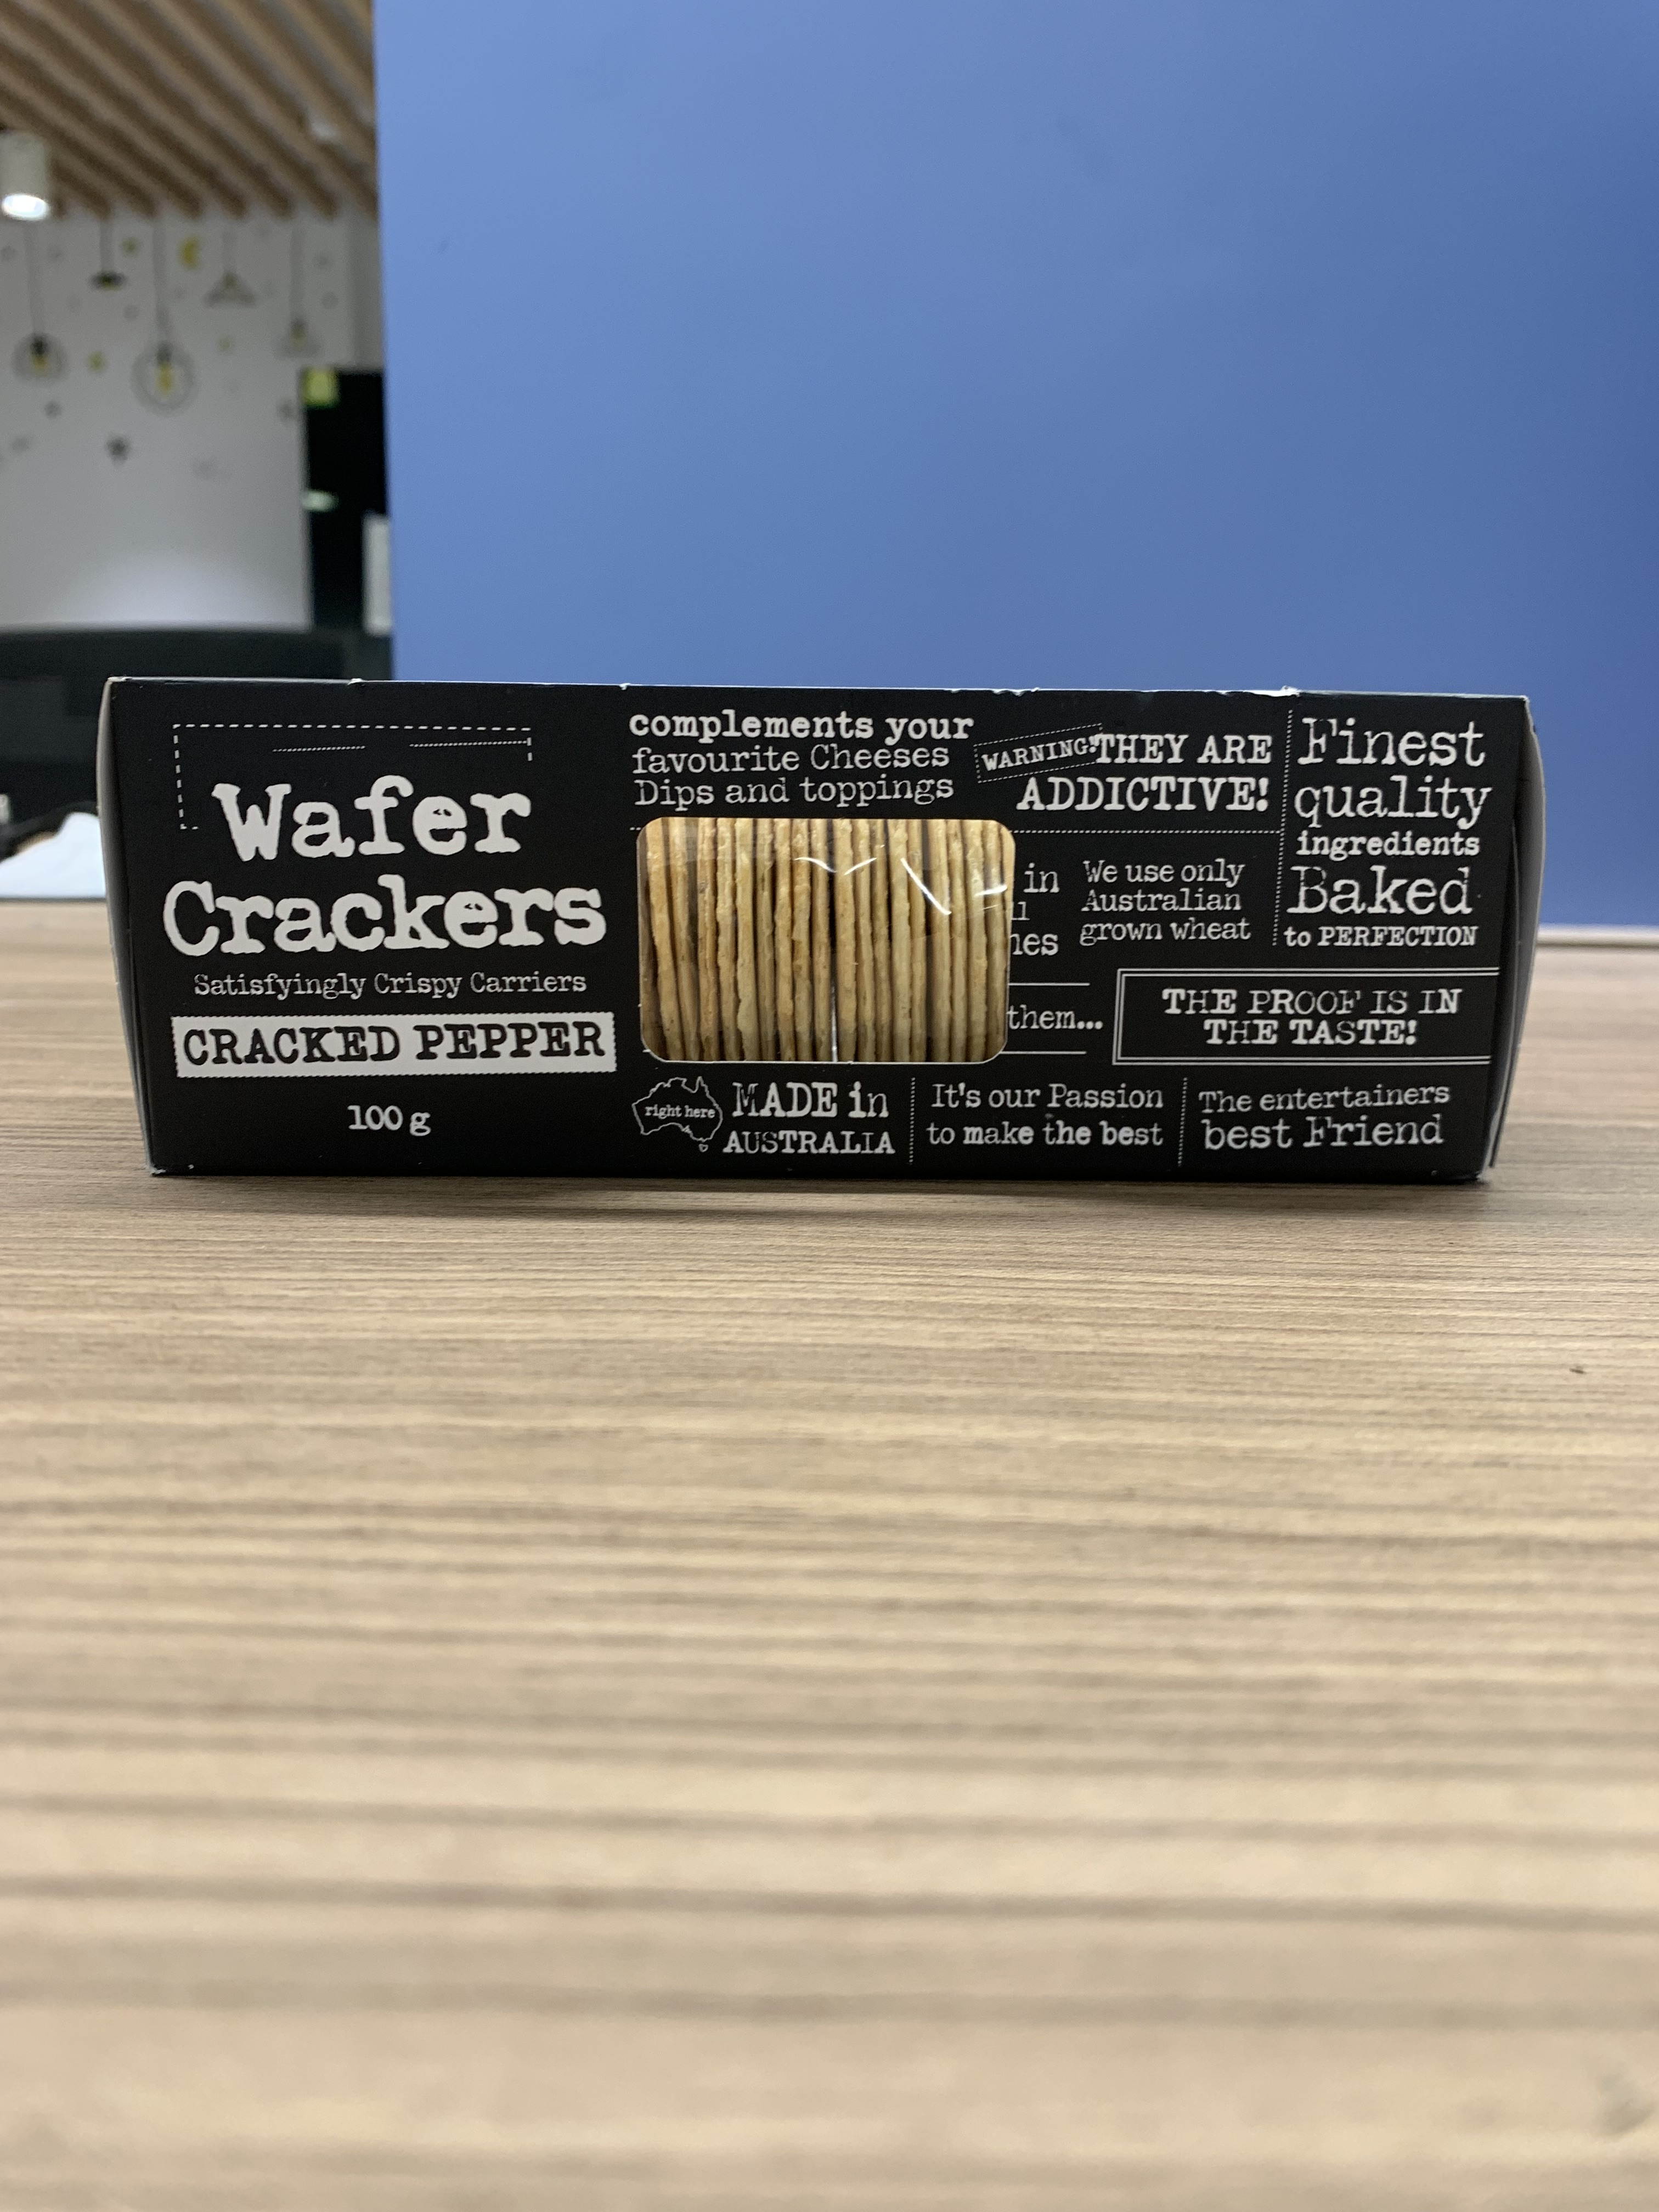crackers_100g-199g: (148, 685, 1506, 1163)
